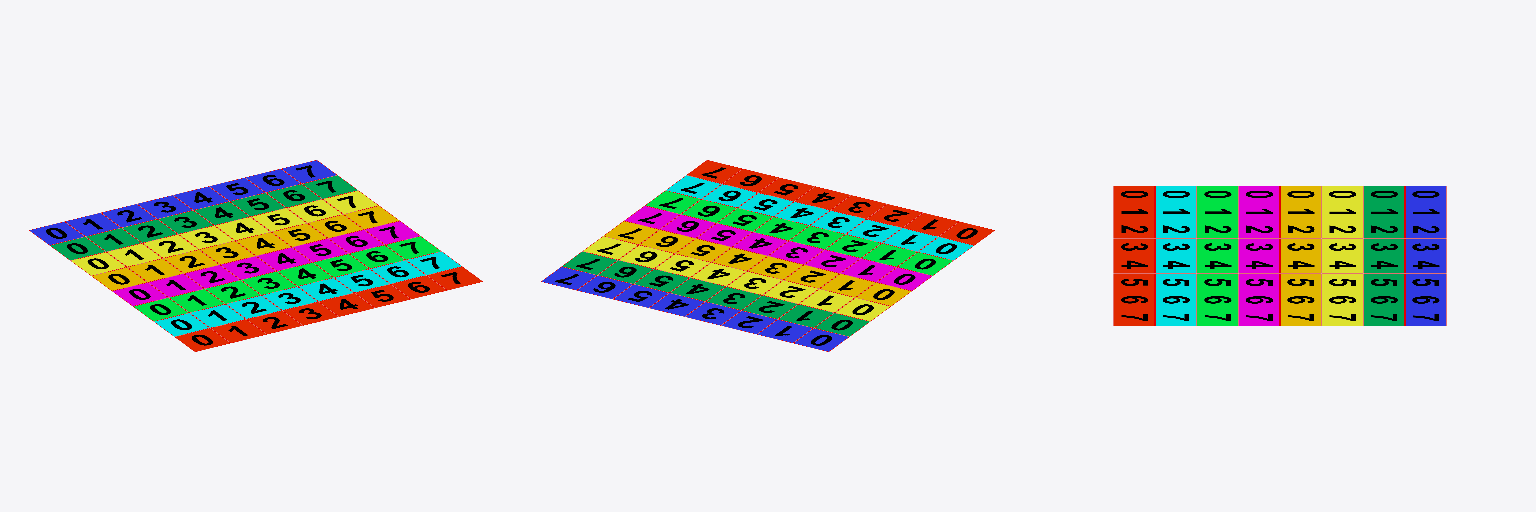
3 views of the same model, side by side, from view 1: azimuth 30°, elevation 25°; view 2: azimuth 150°, elevation 25°; view 3: azimuth 270°, elevation 25° (orthographic).
Visible parts, largest first — view 1: Plane; view 2: Plane; view 3: Plane.
Part boxes in pixels (x1,y1,x2,y2): Plane: (29,160,482,351); Plane: (541,160,994,351); Plane: (1113,186,1446,325).
Size of the model in its own units: 40 by 0 by 40.
1 materials, 1 textured.